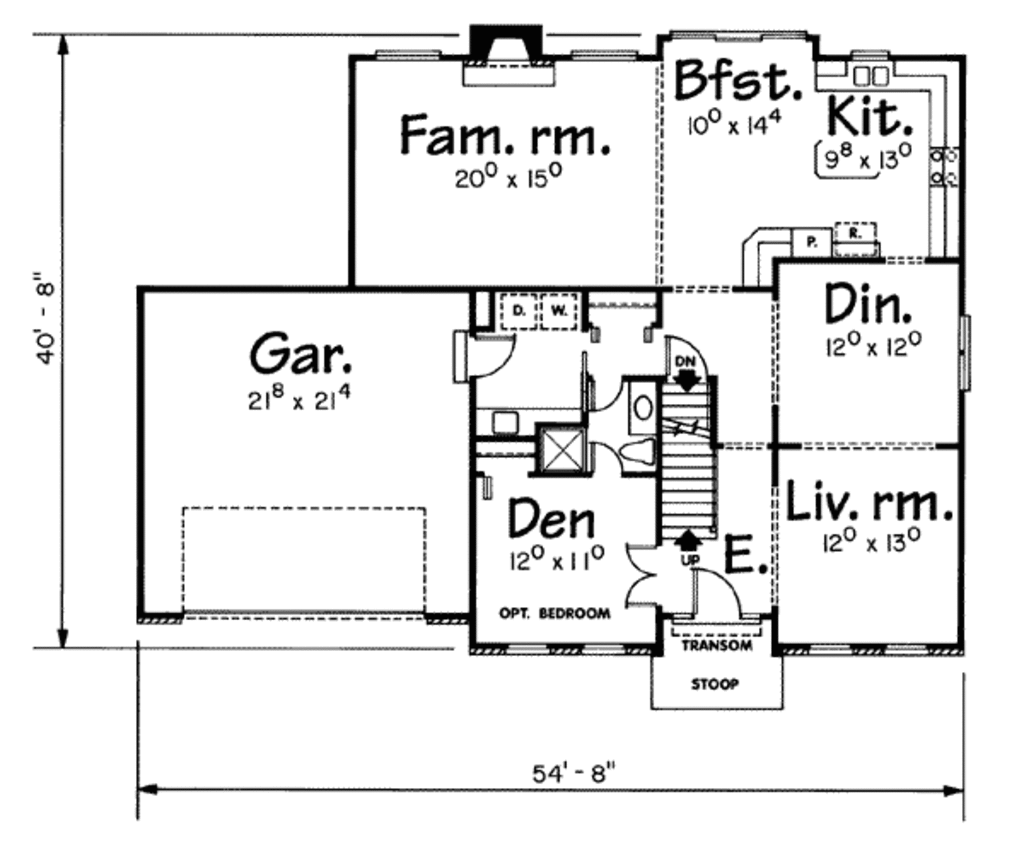door: (682, 564, 743, 625), (625, 538, 661, 614), (467, 333, 522, 379)
large_sink: (616, 437, 654, 472)
small_sink: (625, 382, 658, 433)
stairs: (655, 371, 719, 542)
twin_sink: (846, 57, 904, 94)
window: (802, 641, 938, 665), (499, 638, 629, 661), (956, 308, 975, 400), (569, 45, 643, 68), (373, 47, 443, 68)
